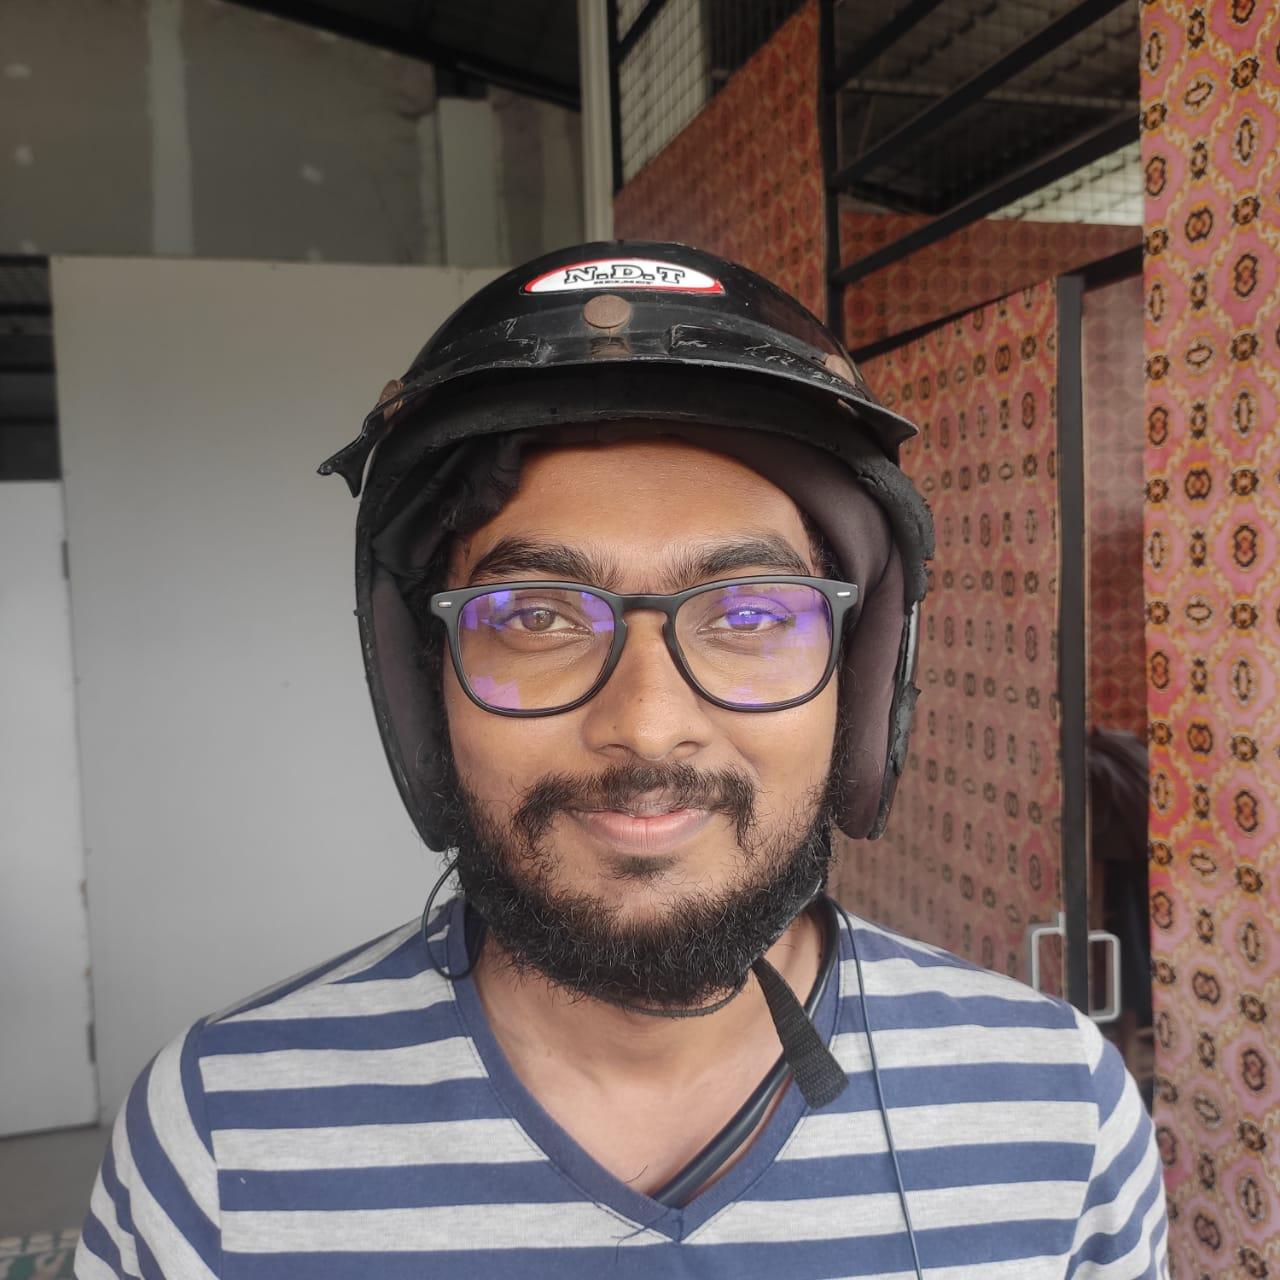helmet: (316, 239, 934, 955)
